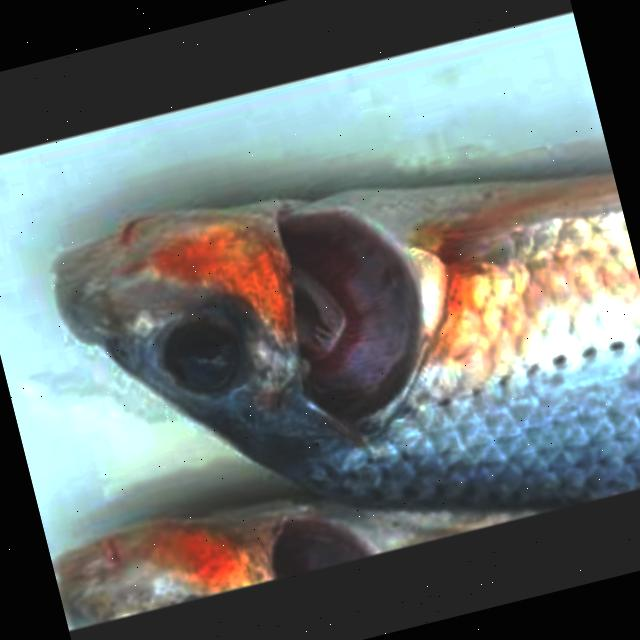Flavobacterium -Bacterial Gill Disease-: (53, 172, 640, 506), (58, 175, 640, 508), (57, 502, 565, 626)
